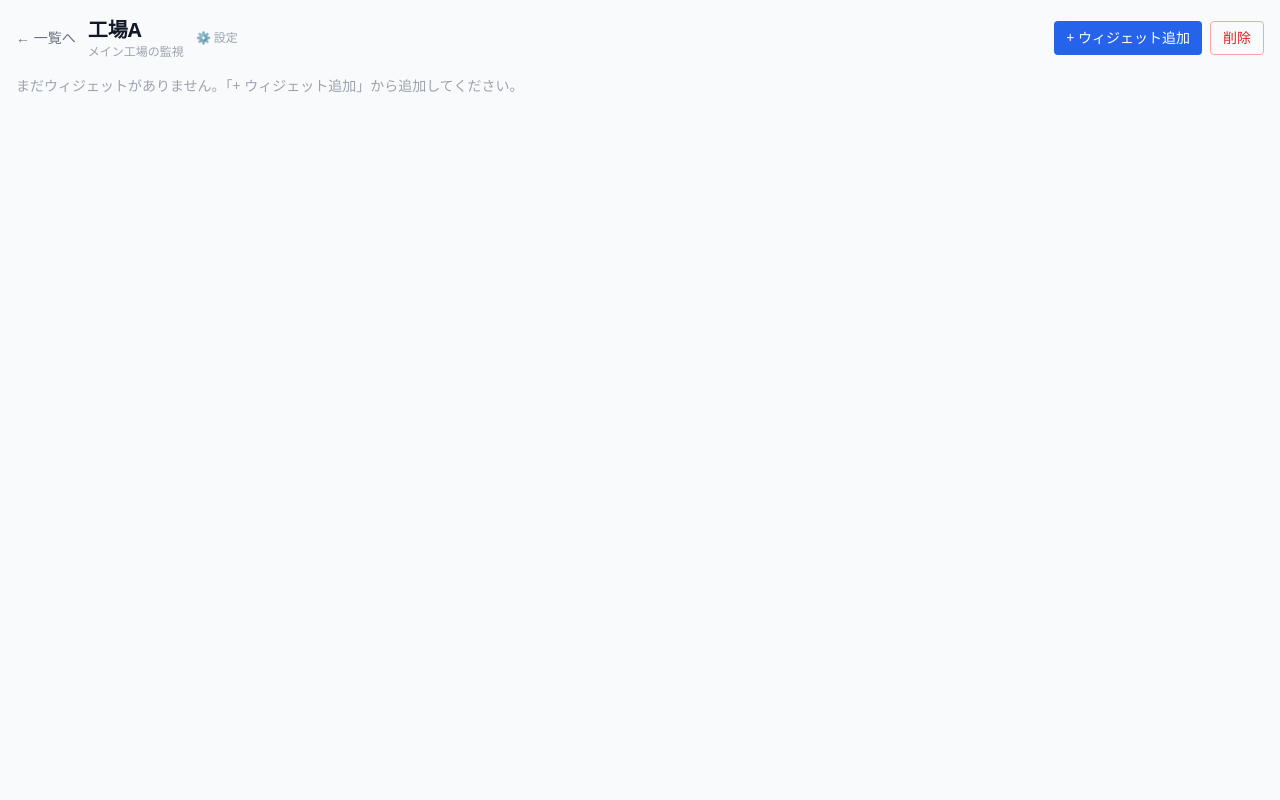
it: DashboardView › 設定モーダルのキャンセルで閉じる
Expected: the heading "工場A" is shown, x1=88 y1=16 x2=141 y2=43
Click the button with aria-label "ダッシュボード設定".
click(217, 38)  # box x1=196 y1=30 x2=238 y2=46
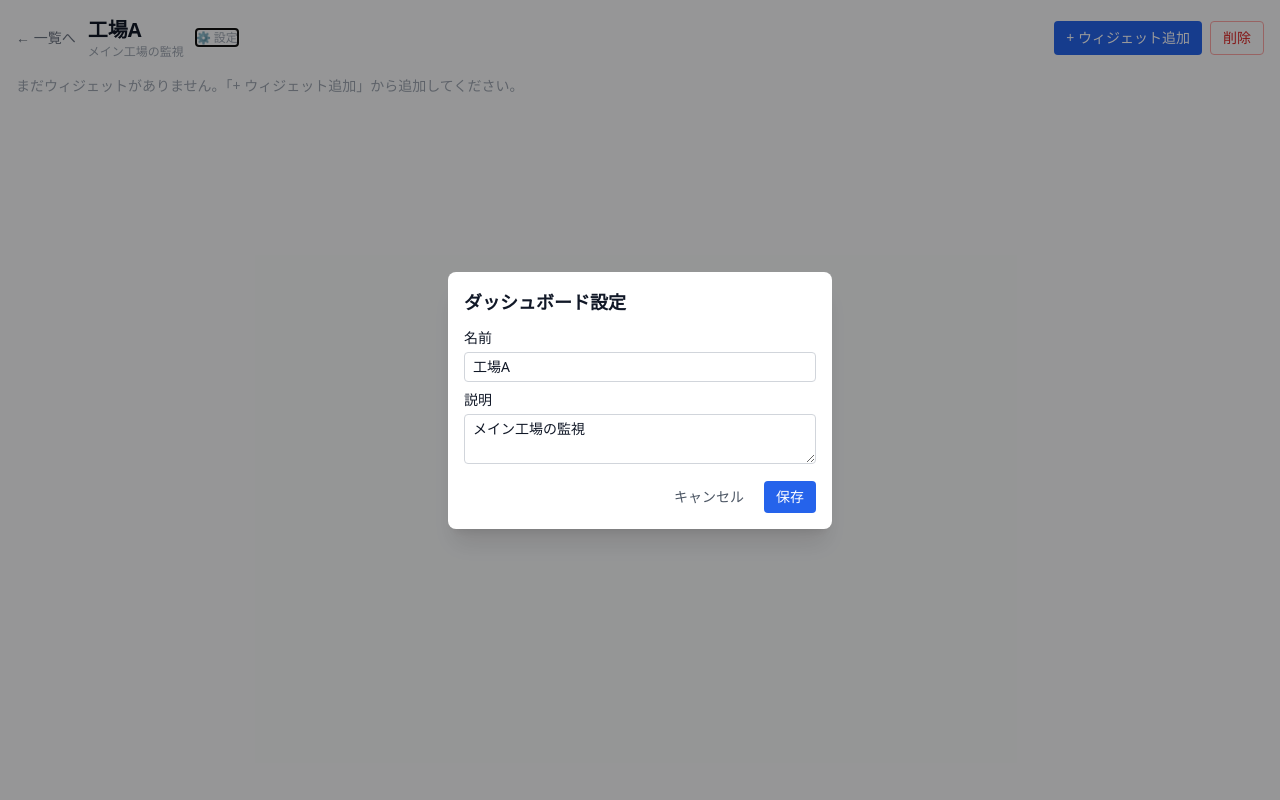
Click the button "キャンセル".
click(709, 496)  # box x1=662 y1=480 x2=756 y2=512
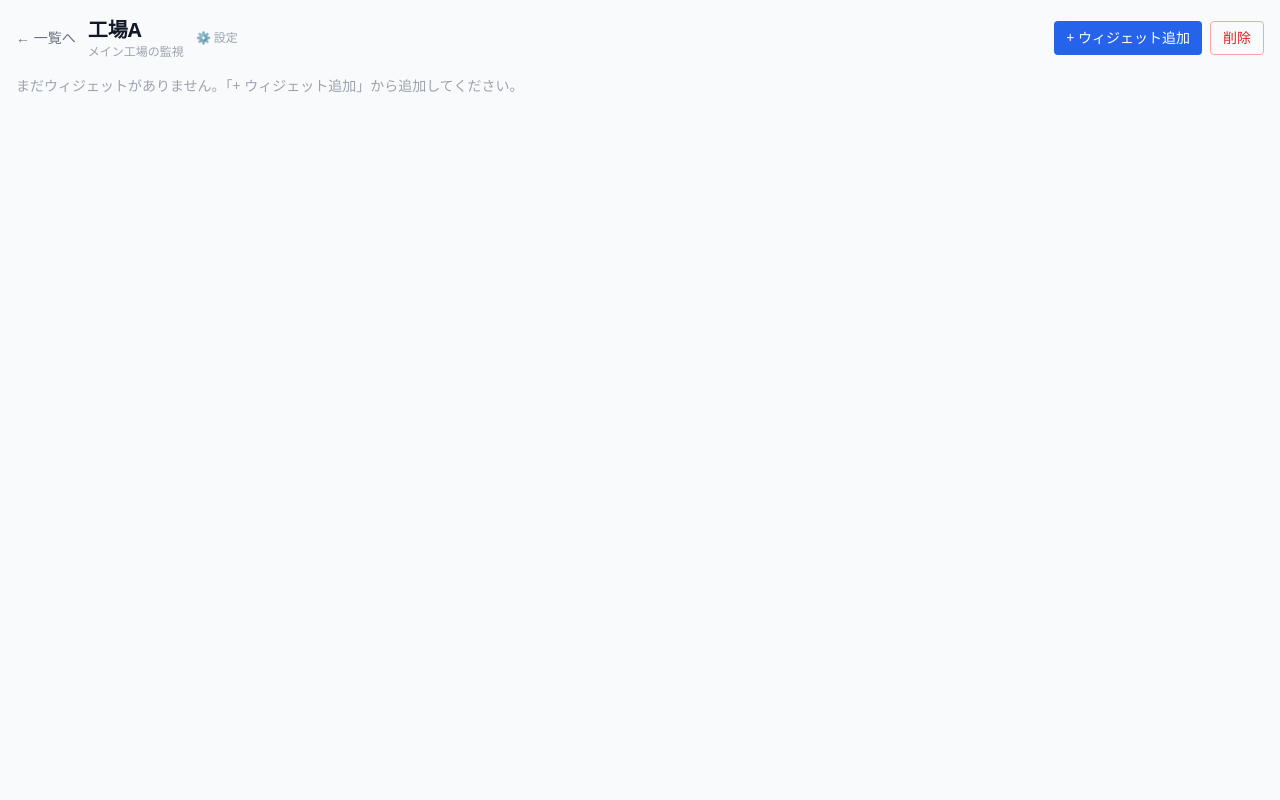
Expected: the button "保存" is gone
